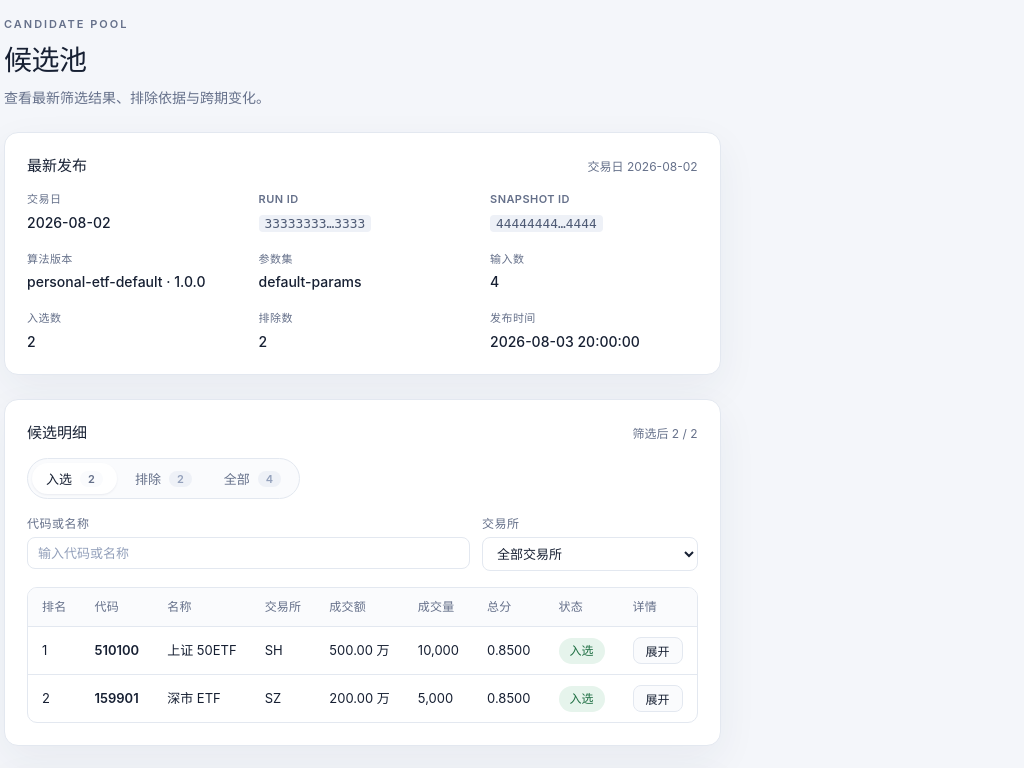
CandidatePoolPage › filters › filters by exchange
This screenshot has width=1024, height=768.
Note: Switch to the "全部" tab so both exchanges are represented.
Click the tab "全部 4" at {"x": 252, "y": 479}, box [210, 463, 295, 494]
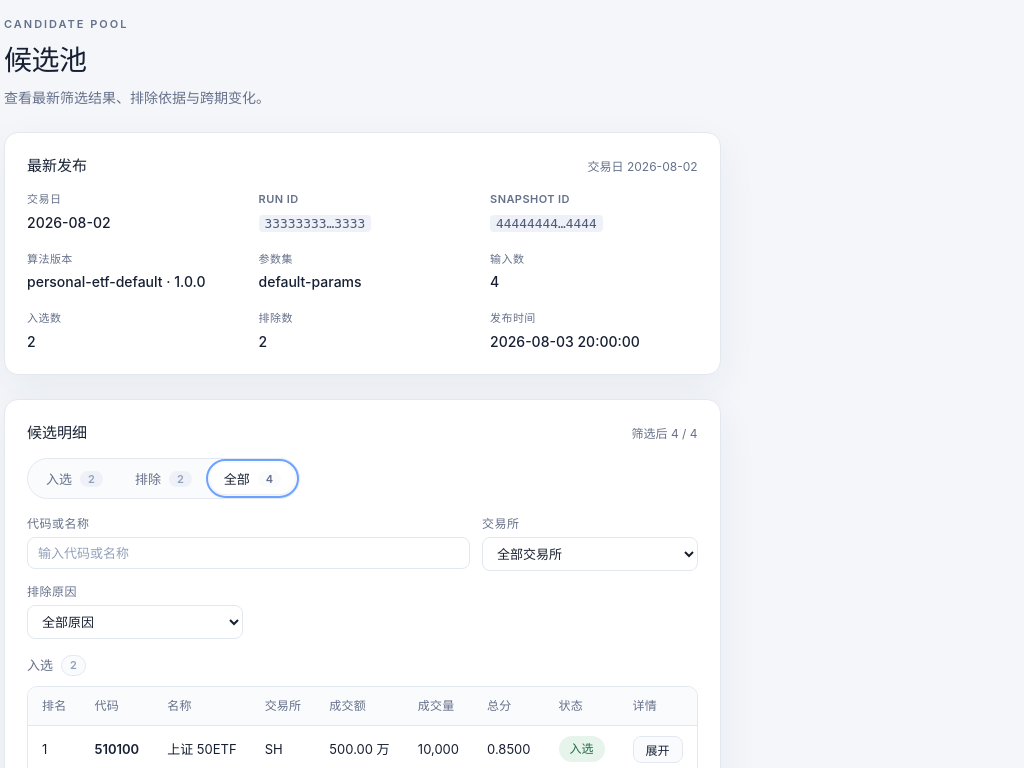
Select "SZ" in the dropdown labelled "交易所" at {"x": 590, "y": 554}, box [482, 537, 698, 571]
(page scrolled)
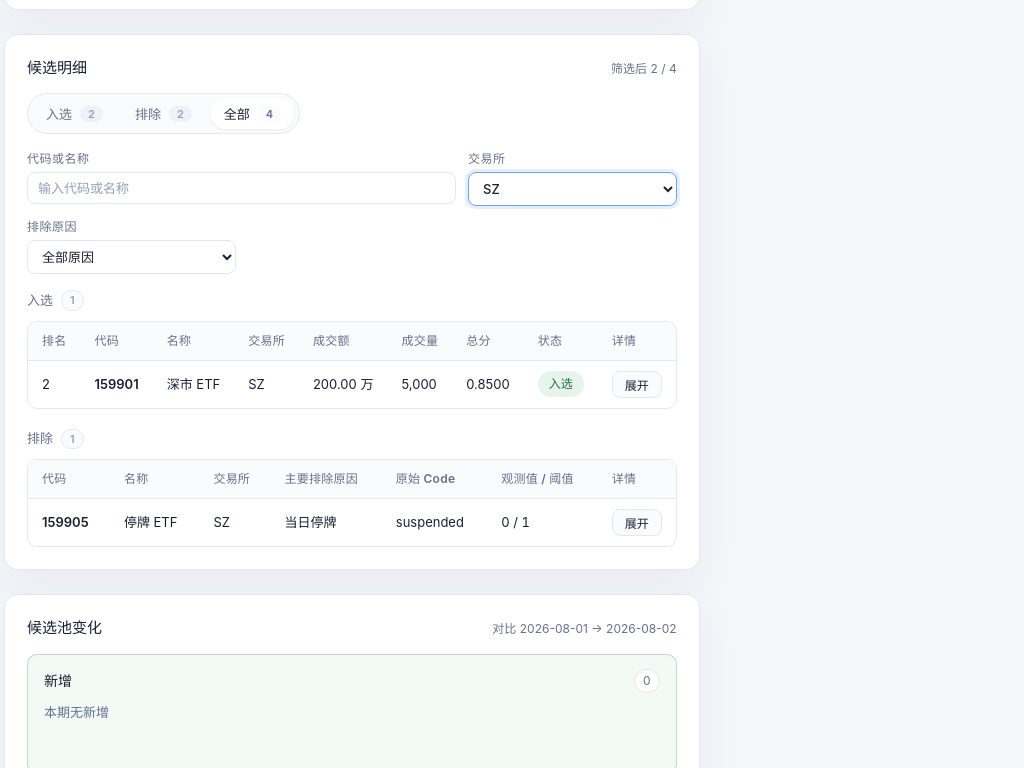
expect the row "2 159901 深市 ETF SZ 200.00 万 5,000 0.8500 入选 展开" is shown: met, box [28, 360, 676, 408]
expect the link "510100" is gone: met
